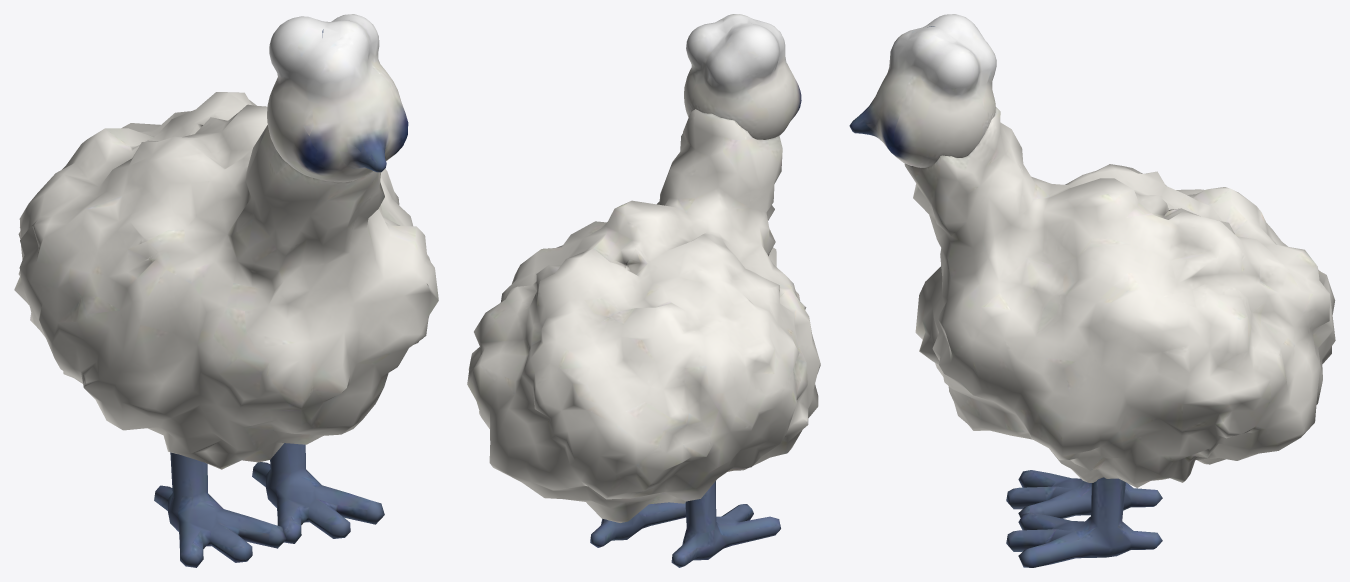
File: animal_silkie_chicken.glb
3 views of the same model, side by side, from view 1: azimuth 30°, elevation 25°; view 2: azimuth 150°, elevation 25°; view 3: azimuth 270°, elevation 25° (orthographic). The views are drawn at different scales.
Visible parts, largest first — view 1: animal_silkie_chicken, head, leg0, leg1; view 2: animal_silkie_chicken, head, leg0, leg1; view 3: animal_silkie_chicken, head, leg1, leg0.
Part boxes in pixels (x1,y1,x2,y2): animal_silkie_chicken: (14, 92, 438, 469); head: (267, 14, 408, 182); leg0: (154, 452, 286, 567); leg1: (252, 443, 384, 543); animal_silkie_chicken: (467, 109, 820, 522); head: (684, 14, 801, 139); leg0: (671, 481, 780, 567); leg1: (590, 502, 686, 547); animal_silkie_chicken: (904, 107, 1335, 487); head: (849, 14, 996, 167); leg1: (1006, 477, 1162, 567); leg0: (1006, 470, 1162, 518).
Bounding box in the file's own units: 0.2157 × 0.334 × 0.289.
1 material, 1 textured.
